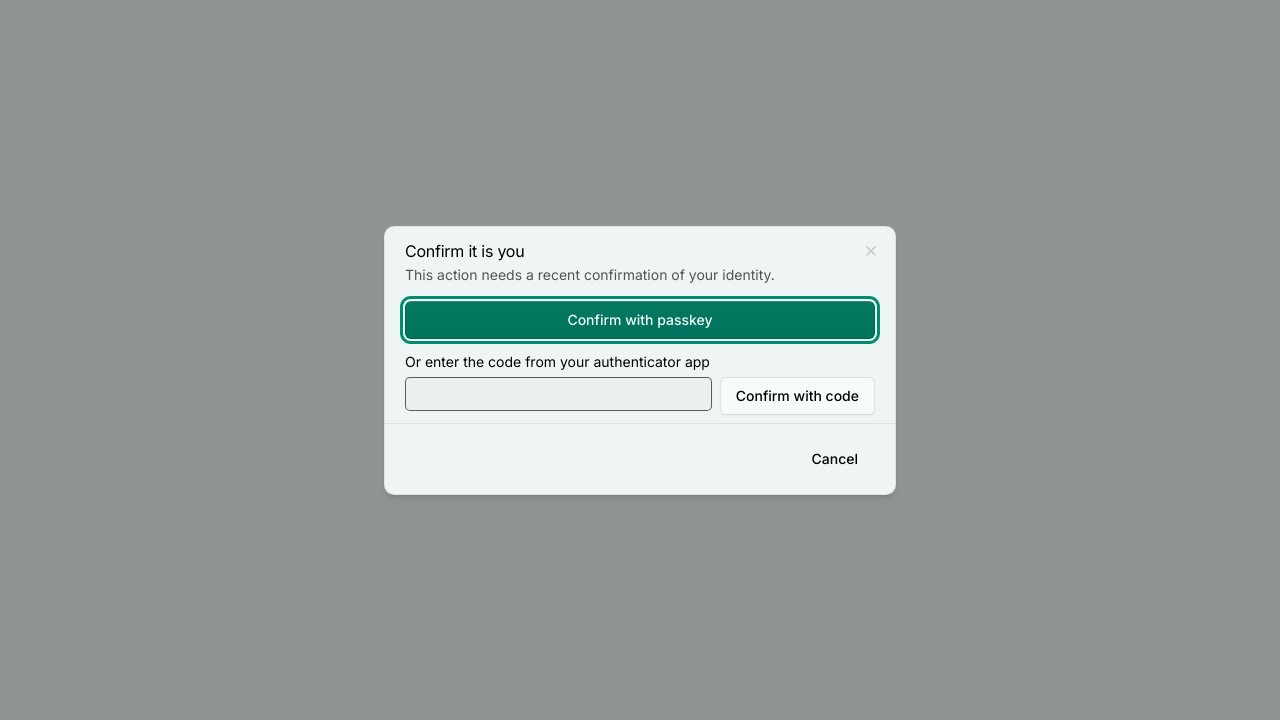
Test: the re-authentication dialog › shows the server message and clears the field when the proof is refused, and stays open
Step 1. Type "000000" into the field labelled "Or enter the code from your authenticator app" → (558, 394), box [405, 376, 712, 410]
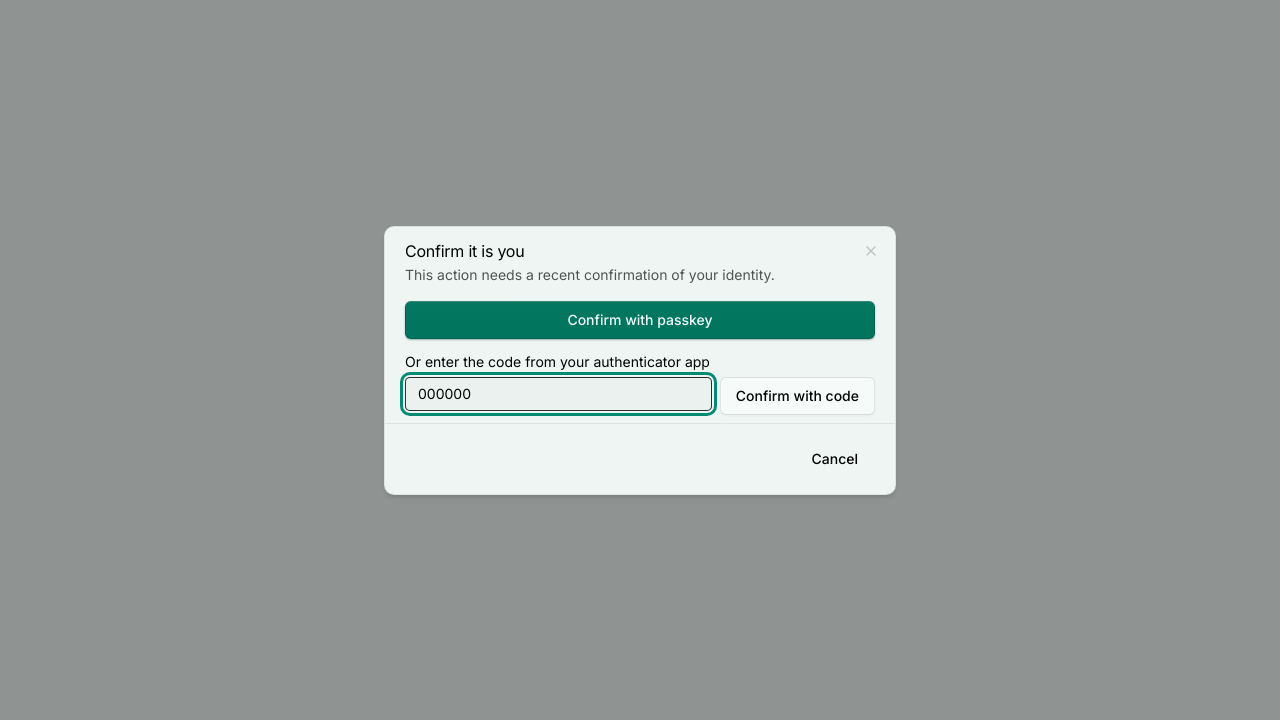
Step 2. Click the button "Confirm with code" → (797, 396), box [720, 376, 875, 414]
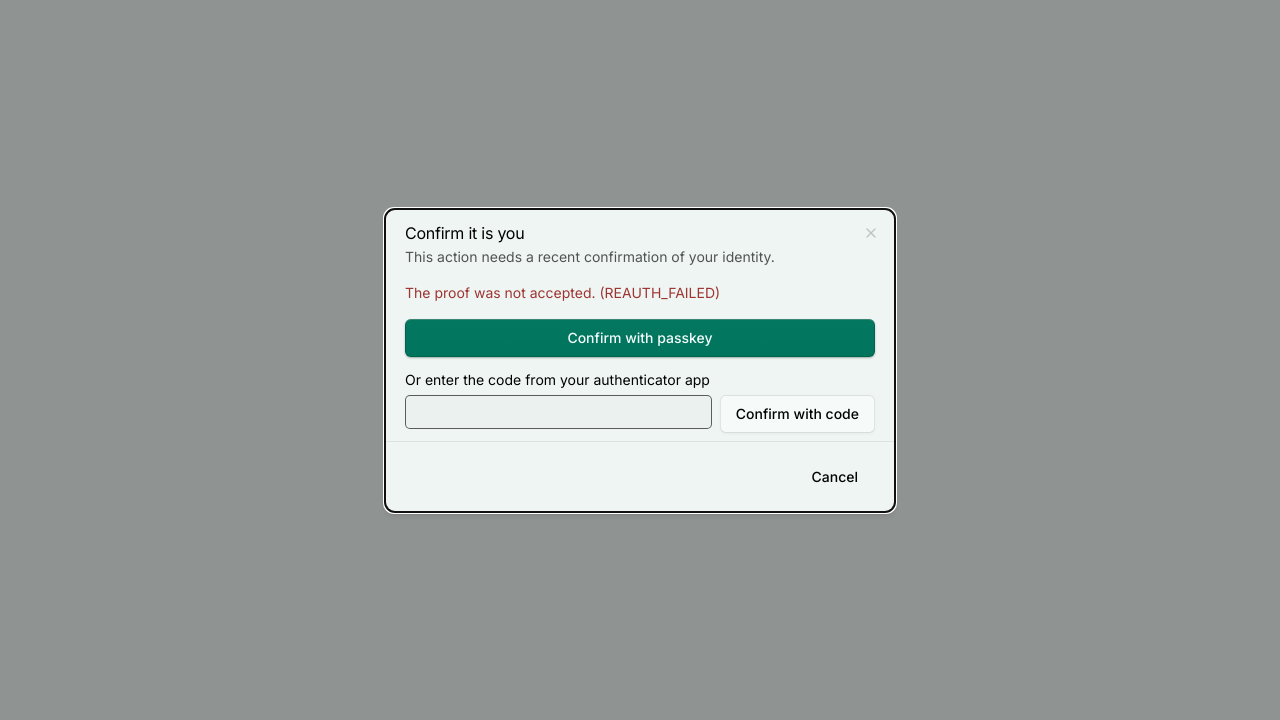
Check: the dialog is shown, box [384, 208, 896, 512]
Check: the message reads "The proof was not accepted. (REAUTH_FAILED)", box [405, 284, 720, 300]
Check: the field labelled "Or enter the code from your authenticator app" is empty, box [405, 394, 712, 428]
